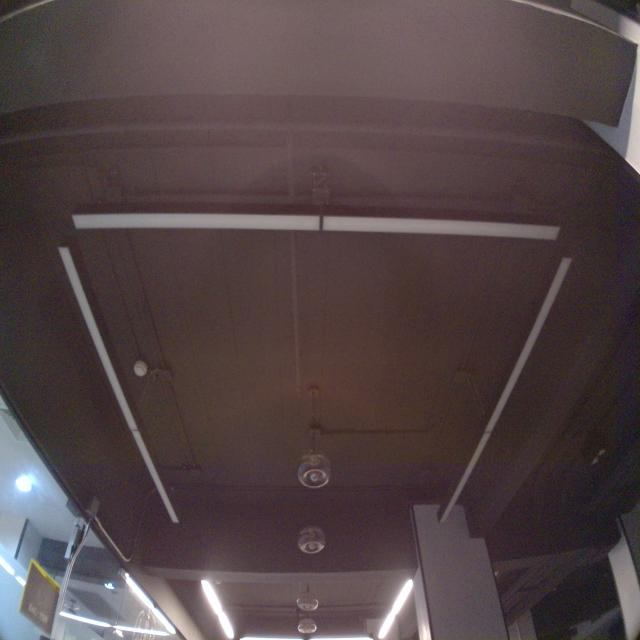lamp2_off: (432, 255, 581, 526), (52, 239, 186, 528), (66, 201, 571, 252)
